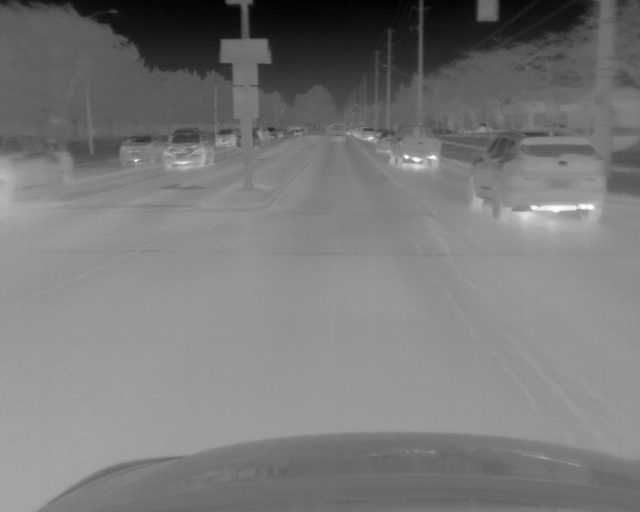car: (465, 129, 604, 225), (1, 136, 72, 199), (388, 127, 440, 171), (164, 131, 213, 169), (118, 133, 161, 167), (215, 128, 236, 147), (373, 131, 392, 150), (256, 126, 270, 141), (359, 126, 373, 140)
